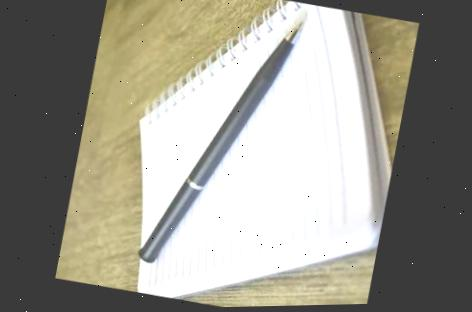pen-pencil: (139, 22, 301, 261)
